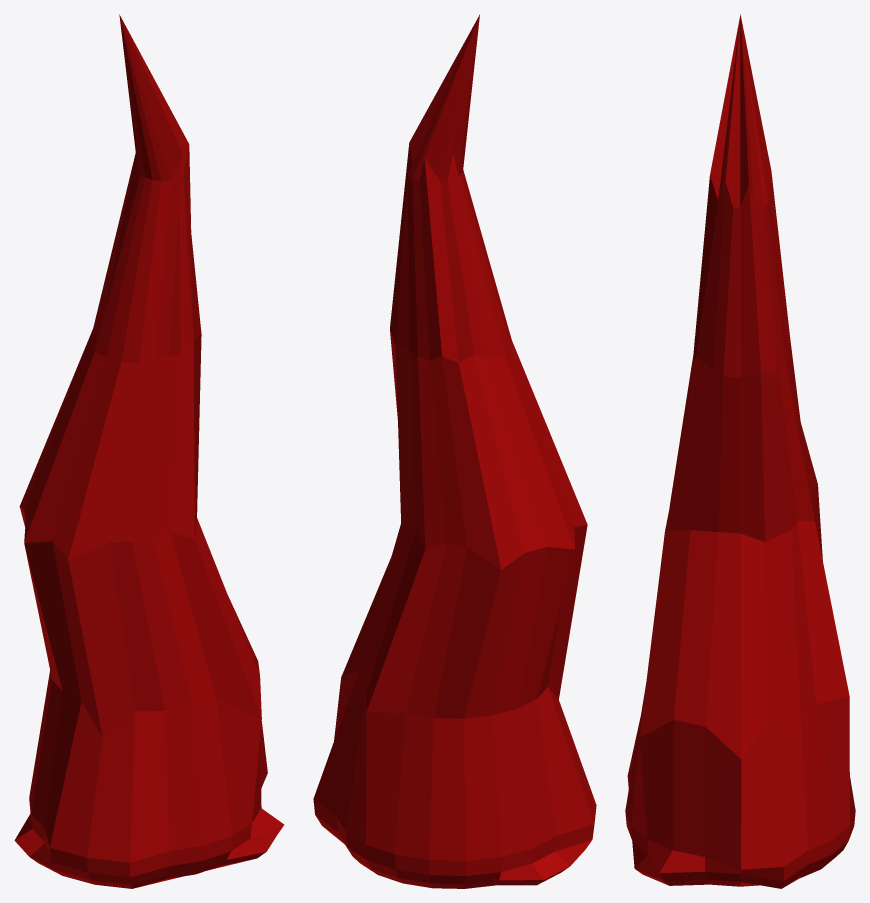
Rendered from spike4.fbx.
3 views of the same model, side by side, from view 1: azimuth 30°, elevation 25°; view 2: azimuth 150°, elevation 25°; view 3: azimuth 270°, elevation 25° (orthographic). The views are drawn at different scales.
Parts seen in each view (by area): view 1: pCone2; view 2: pCone2; view 3: pCone2.
Boxes of the visible parts, <box> form: pCone2: <box>14,14,284,888</box>; pCone2: <box>313,14,596,888</box>; pCone2: <box>625,14,855,888</box>.
Bounding box in the file's own units: 46.95 × 153 × 39.03.
